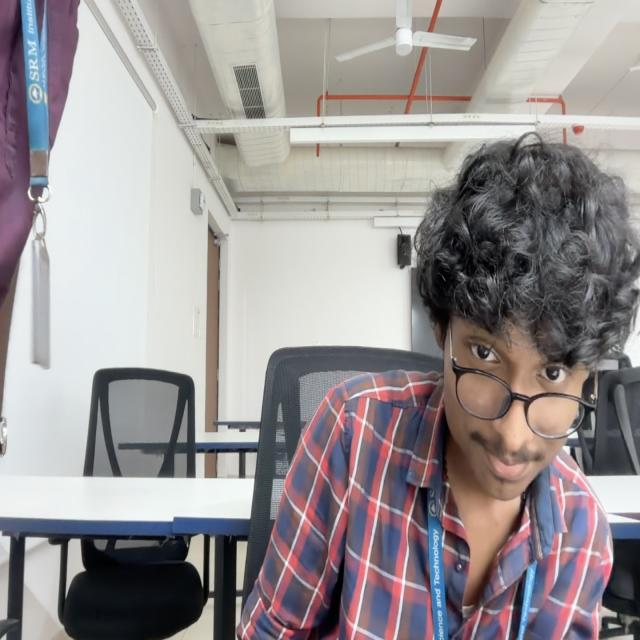darshan: (417, 141, 640, 503)
